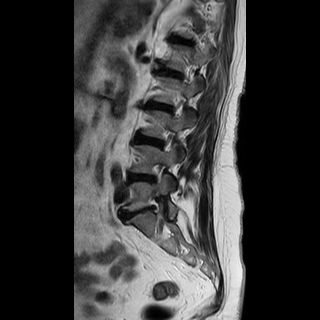LFS0: (157, 120, 180, 158)
LFS1: (149, 158, 171, 190)
